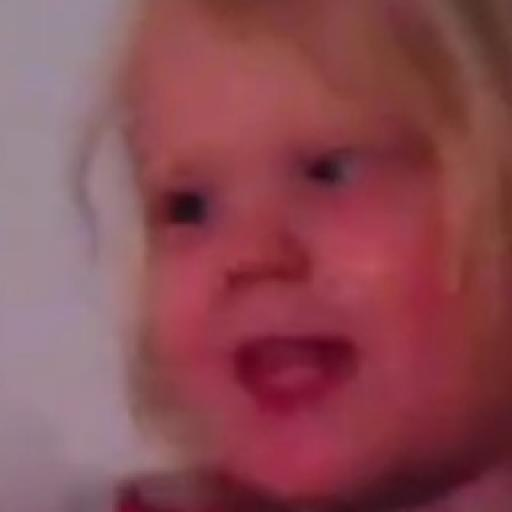Autism: (102, 44, 512, 512)
